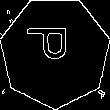P_E: (31, 34, 79, 71)
